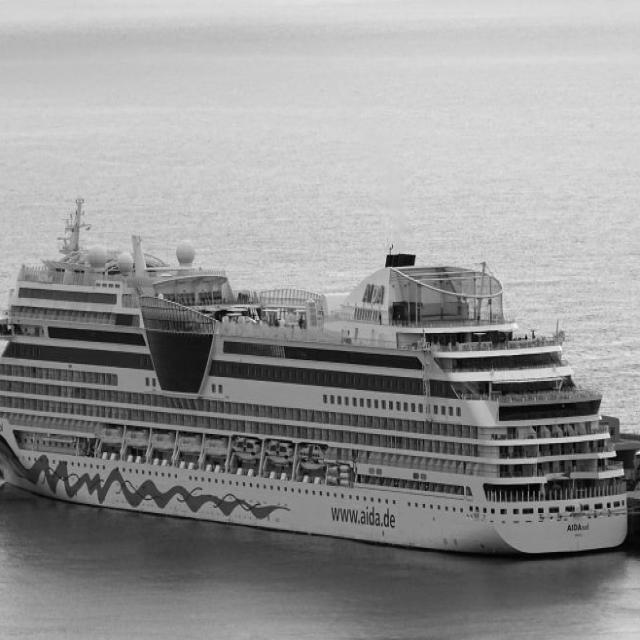cruises: (1, 196, 639, 569)
